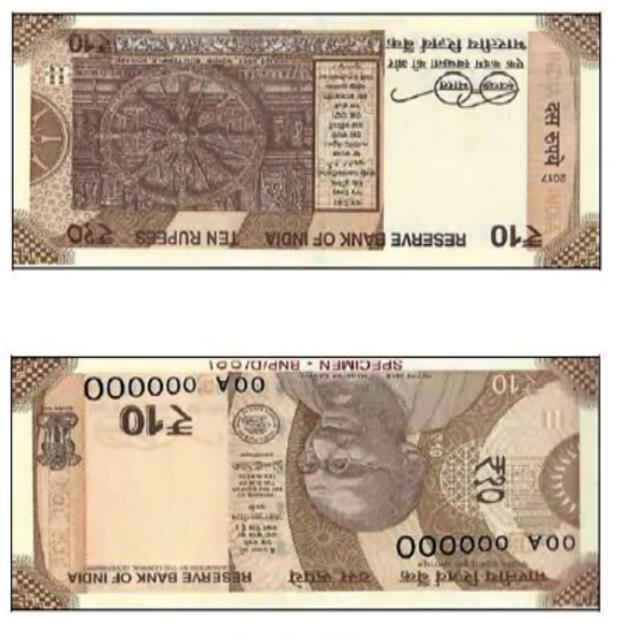10IndianRupees: (11, 14, 602, 272), (221, 358, 603, 612), (9, 15, 387, 264), (13, 358, 372, 612), (254, 13, 600, 262)
